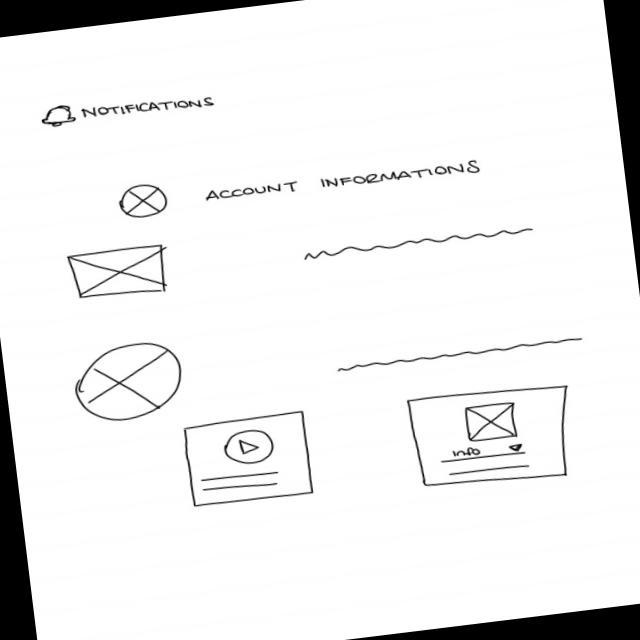container: (407, 379, 581, 496), (182, 409, 317, 512)
image: (70, 338, 188, 427), (65, 243, 171, 307), (463, 400, 522, 444), (116, 182, 170, 222)
label: (203, 156, 482, 208), (80, 91, 218, 125)
select: (438, 439, 530, 466)
text: (337, 334, 588, 375), (303, 222, 538, 264)
textbox: (198, 468, 288, 497)
